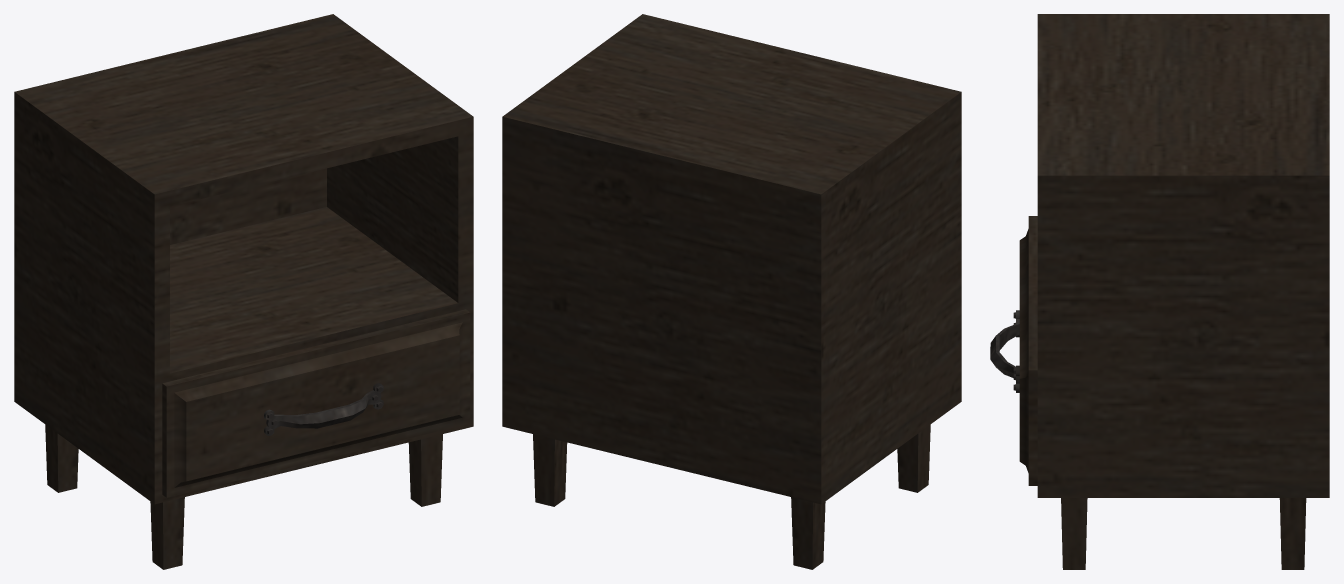
Rendered from bedside_table_2_2.obj.
The picture shows the model from 3 angles, left to right: view 1: azimuth 30°, elevation 25°; view 2: azimuth 150°, elevation 25°; view 3: azimuth 270°, elevation 25°; orthographic projection. The views are drawn at different scales.
Parts seen in each view (by area): view 1: bedside_table_2_2, bedside_table_2_2_drawer; view 2: bedside_table_2_2; view 3: bedside_table_2_2, bedside_table_2_2_drawer.
Boxes of the visible parts, <box> form: bedside_table_2_2: <box>14,14,473,569</box>; bedside_table_2_2_drawer: <box>162,309,470,497</box>; bedside_table_2_2: <box>502,14,961,569</box>; bedside_table_2_2: <box>1037,14,1329,569</box>; bedside_table_2_2_drawer: <box>990,216,1037,485</box>.
Size of the model in its own units: 0.504 by 0.588 by 0.4463.
